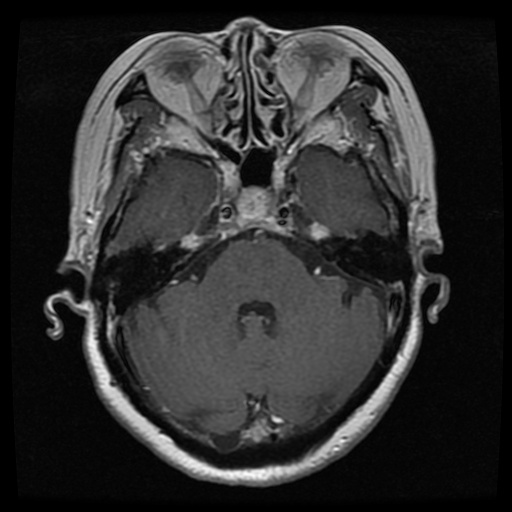pituitary: (235, 186, 275, 219)
